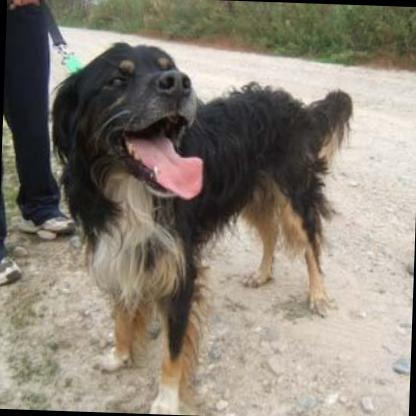Gordon_setter: (41, 36, 353, 416)
